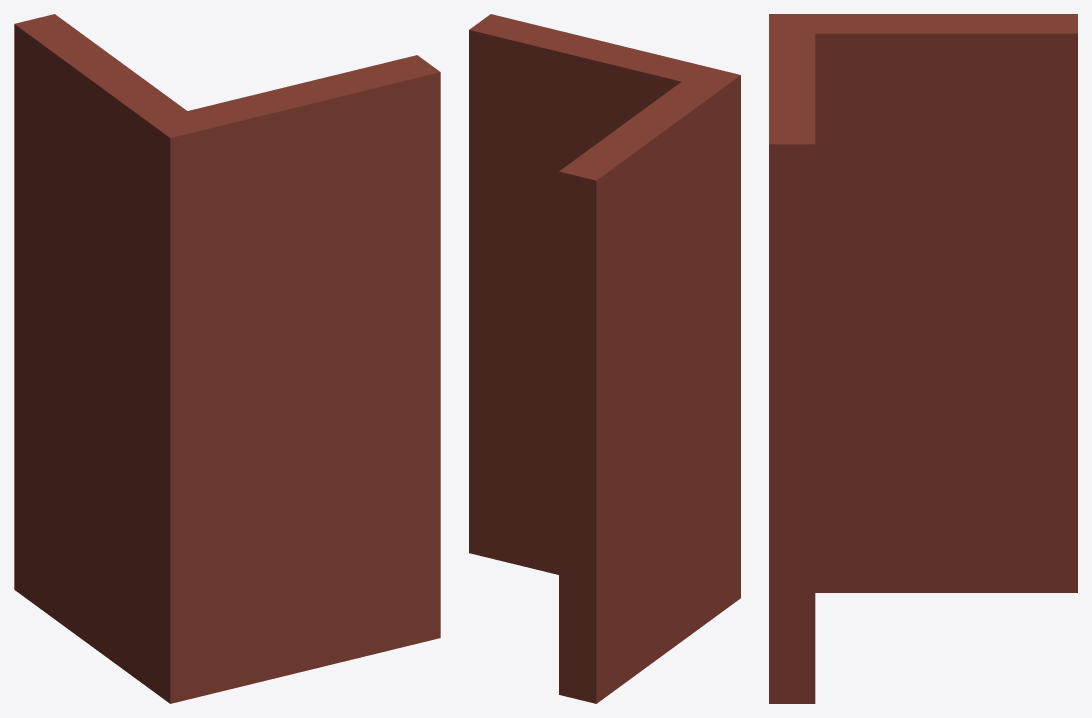
The model's file is wallCorner.fbx.
The picture shows the model from 3 angles, left to right: view 1: azimuth 30°, elevation 25°; view 2: azimuth 150°, elevation 25°; view 3: azimuth 270°, elevation 25°; orthographic projection. The views are drawn at different scales.
Parts seen in each view (by area): view 1: wallCorner; view 2: wallCorner; view 3: wallCorner.
Part boxes in pixels (bbox=[...]): wallCorner: bbox=[14, 14, 440, 703]; wallCorner: bbox=[469, 14, 740, 703]; wallCorner: bbox=[769, 14, 1077, 703].
Bounding box in the file's own units: 200 × 400 × 200.
1 material, 1 textured.
